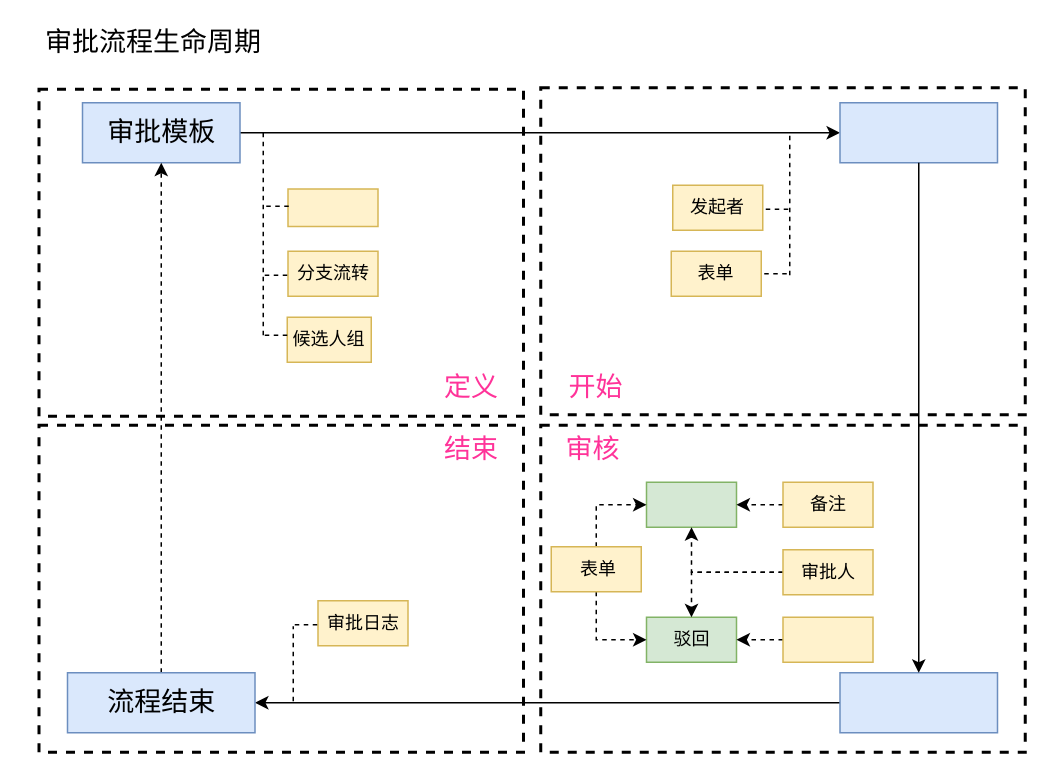
This 1052x779 diagram has some shape labels left out. The centre of each missing label's shape, as x and y in pixels:
"审核中流程" goes at pixel 918 702.
"待审核流程" goes at pixel 918 132.
"节点" goes at pixel 332 207.
"通过" goes at pixel 690 504.
"驳回原因" goes at pixel 827 639.
